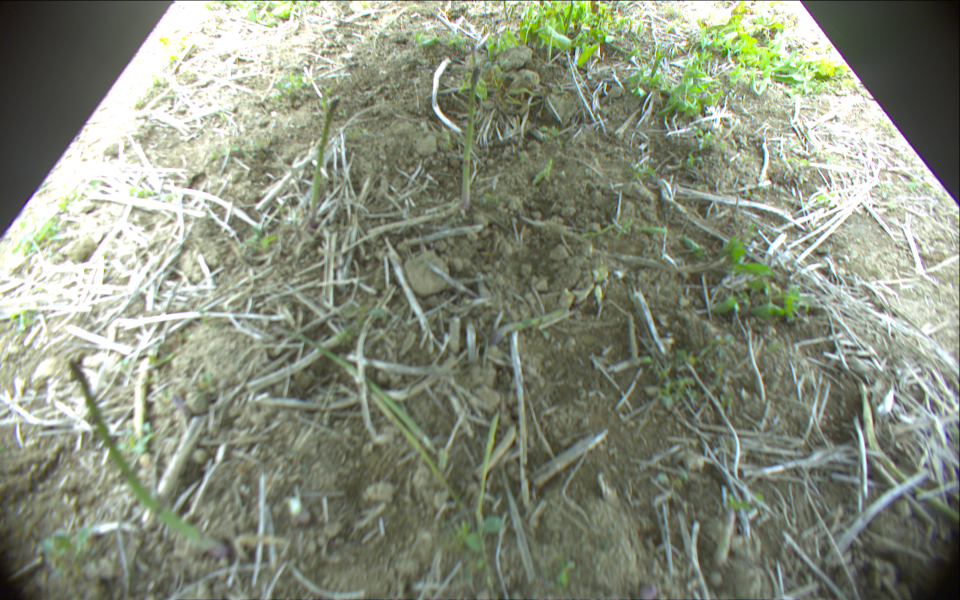aspa: (70, 362, 224, 554), (269, 322, 444, 451), (354, 379, 467, 516), (307, 96, 339, 221), (475, 407, 500, 526), (460, 69, 480, 214), (565, 1, 574, 37)
